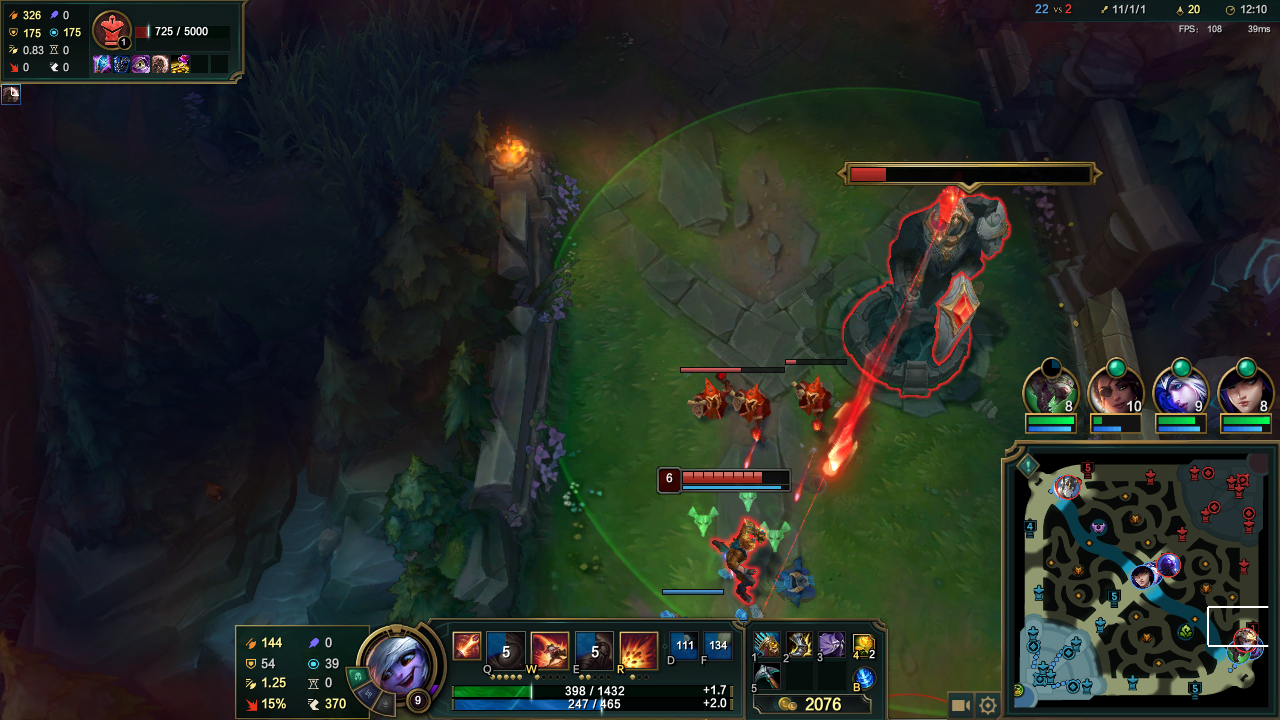DFFYT: (842, 156, 1000, 395)
DFXB: (779, 373, 846, 427), (731, 384, 782, 435), (682, 376, 732, 426)
DFYX: (677, 471, 742, 493)
Yita: (1185, 673, 1207, 700)
